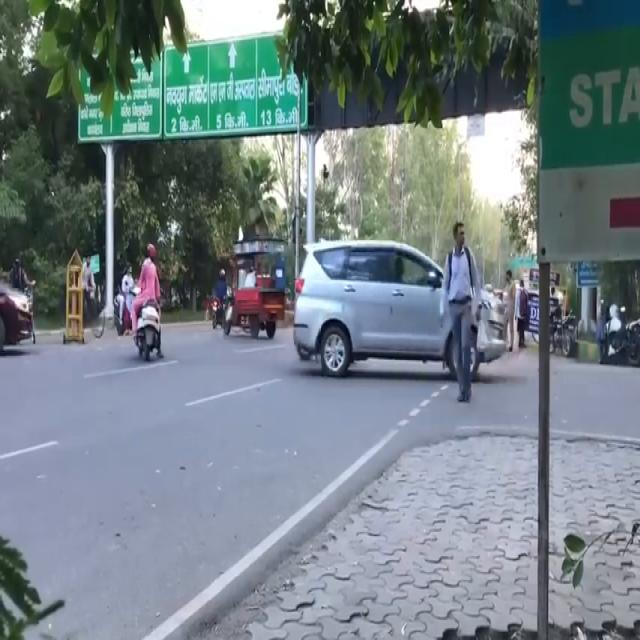MOTORCYCLE: (133, 287, 162, 359)
SUV: (297, 243, 507, 383)
